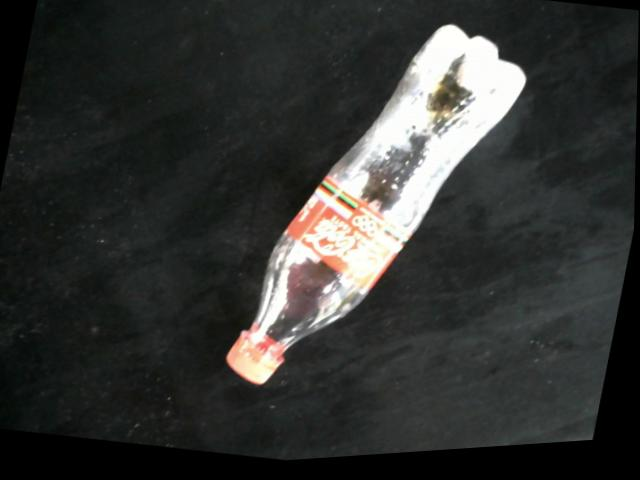bottle: (226, 29, 527, 391)
